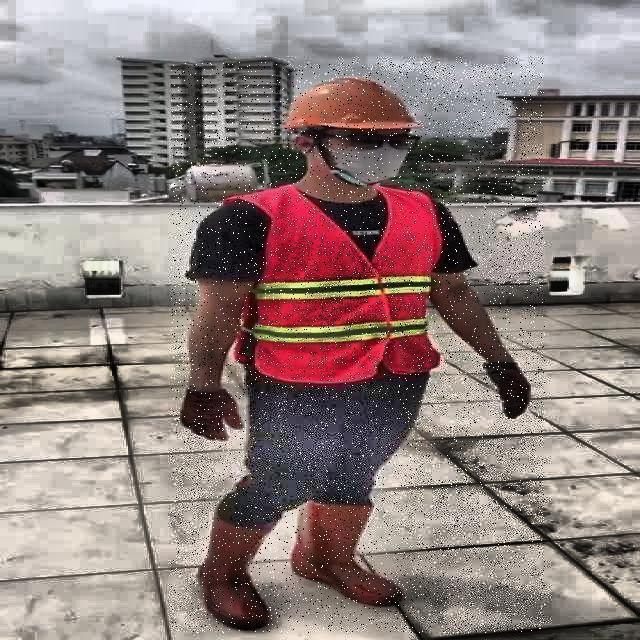safety_helmet: (278, 70, 421, 134)
safety_jacket: (242, 186, 444, 381)
